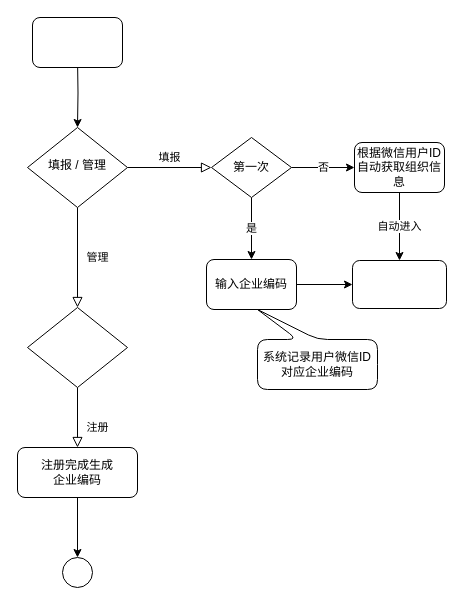
Some shapes in this 464 by 605 pixel diagram are drawn without their labels. Each missing label, with the centre of its shape:
"微信 小程序" goes at point 77,42.
"注册 / 登录" goes at point 77,347.
"进入填报" goes at point 399,284.
